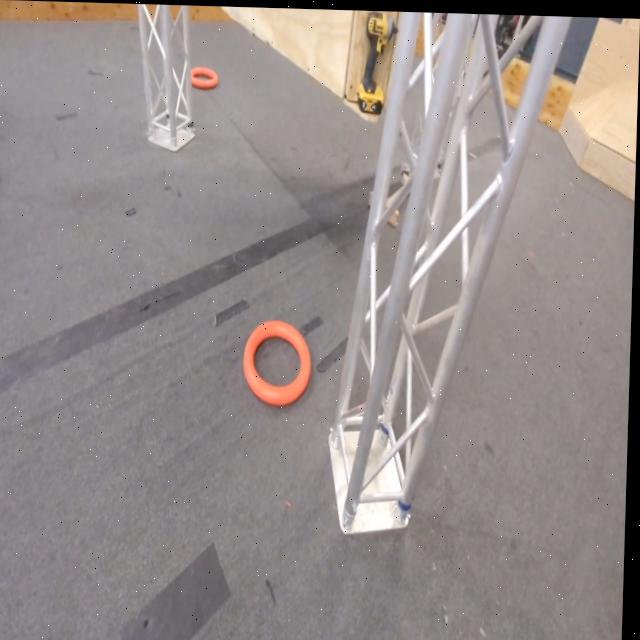note: (244, 319, 315, 403), (189, 64, 218, 90)
